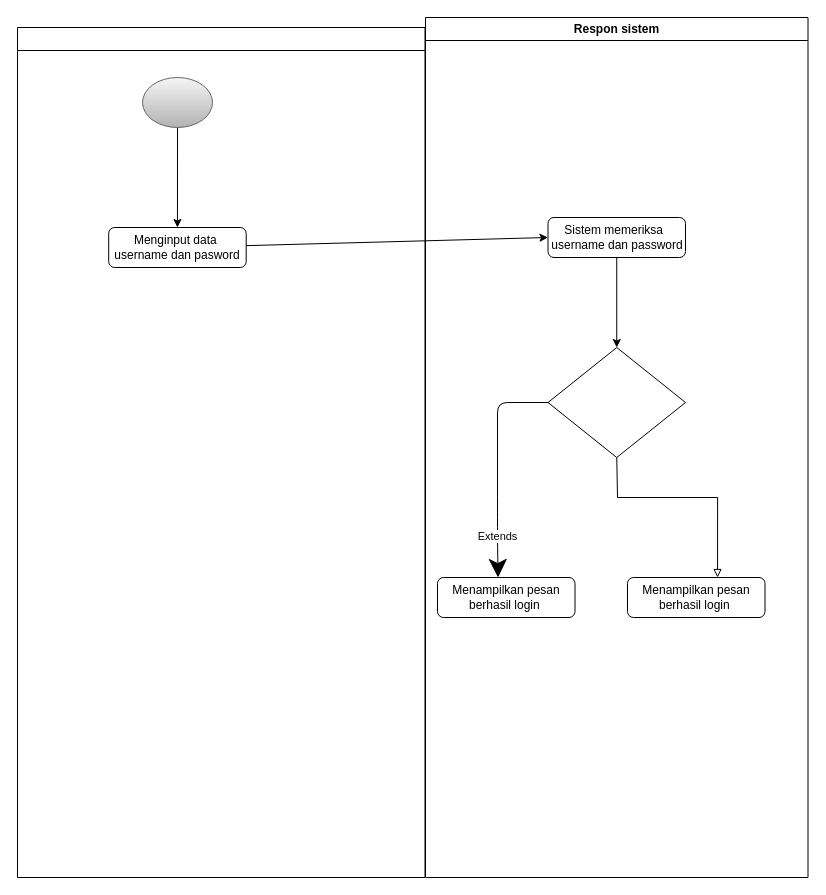
The diagram is 826 pixels wide and 895 high, and some of its shapes have lost their labels. Here are the shapes that lost their labels. From the top down, the box of each, then its label:
(547, 346, 686, 458): Validasi username dan password
(16, 26, 425, 878): Mahasiswa
